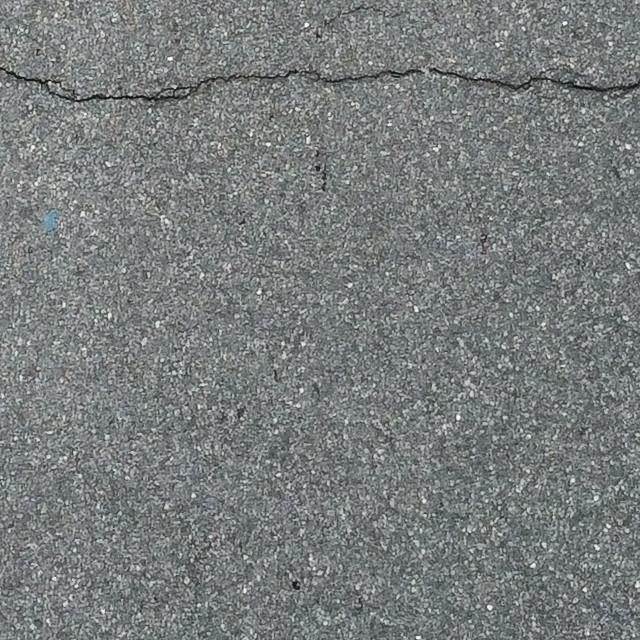TransverseCrack: (1, 63, 640, 106)
